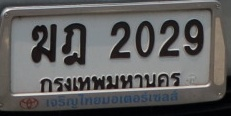txt04: (29, 22, 58, 64)
txt11: (59, 21, 88, 67)
